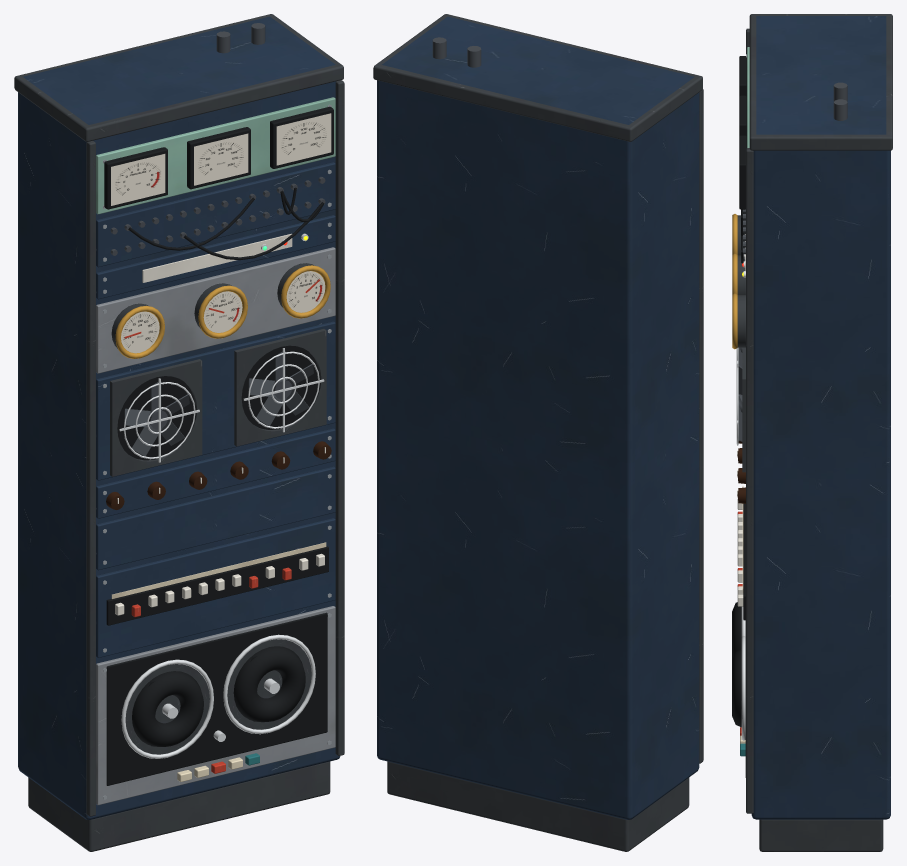
Rendered from Rack_75_6.glb.
3 renders of one model, left to right at view 1: azimuth 30°, elevation 25°; view 2: azimuth 150°, elevation 25°; view 3: azimuth 270°, elevation 25°, orthographic.
Visible parts, largest first — view 1: Rack_75_6_Body; view 2: Rack_75_6_Body; view 3: Rack_75_6_Body.
Boxes of the visible parts, x1,y1,x2,y2 form: Rack_75_6_Body: [14, 14, 344, 851]; Rack_75_6_Body: [373, 14, 703, 851]; Rack_75_6_Body: [732, 14, 892, 851].
Size of the model in its own units: 0.76 by 2.1 by 0.4155.
21 materials, 11 textured.
